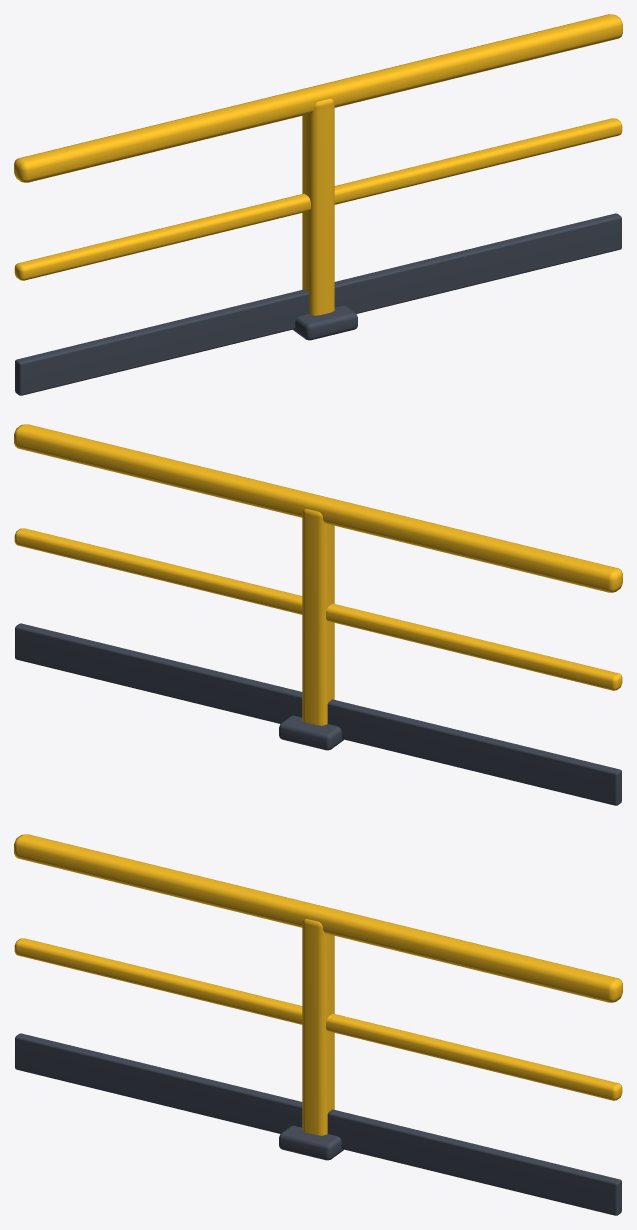
File: dune_rail.glb
3 views of the same model, one above another, from view 1: azimuth 30°, elevation 25°; view 2: azimuth 150°, elevation 25°; view 3: azimuth 330°, elevation 25° (orthographic).
Visible parts, largest first — view 1: Rail; view 2: Rail; view 3: Rail.
Part boxes in pixels (x1,y1,x2,y2): Rail: [14, 14, 622, 395]; Rail: [14, 424, 622, 805]; Rail: [14, 834, 622, 1215].
Bounding box in the file's own units: 3 × 1.13 × 0.26.
